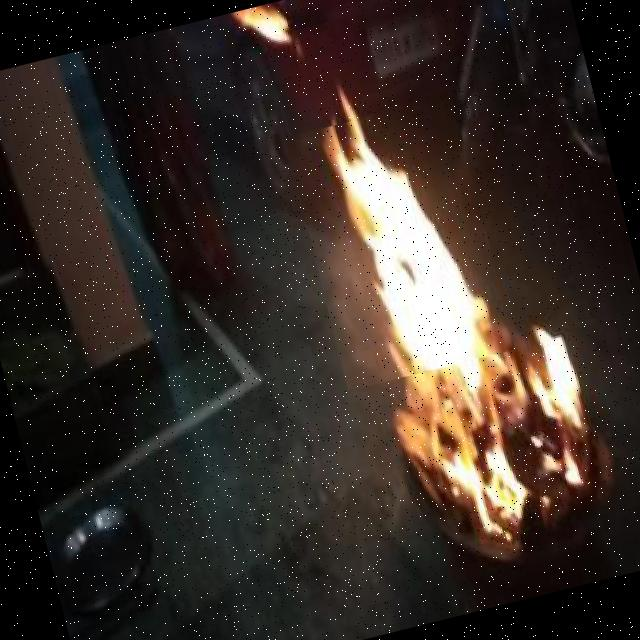fire: (285, 96, 515, 391)
